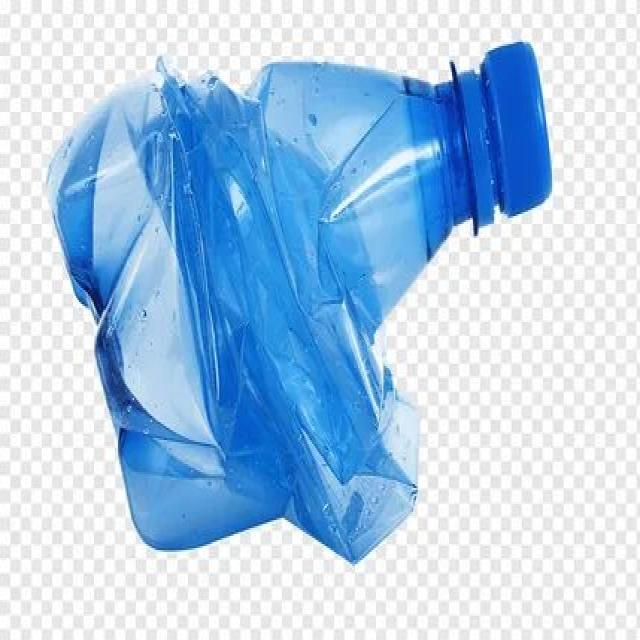blue: (46, 57, 471, 565)
